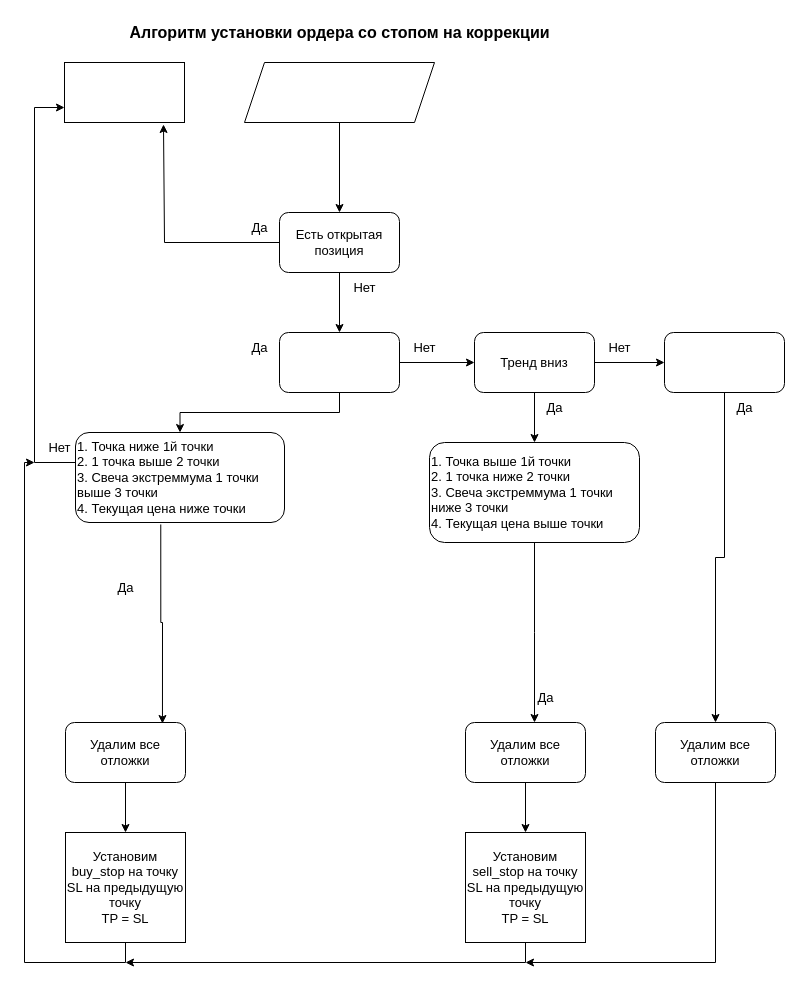
Some shapes in this 802 by 988 pixel diagram are drawn without their labels. Here are the shapes that lost their labels. From the top down, the centre of each, then its label:
At pixel 124 92: "Выход".
At pixel 339 92: "Появилась новая точка".
At pixel 339 362: "Тренд вверх".
At pixel 724 362: "Флэт".
